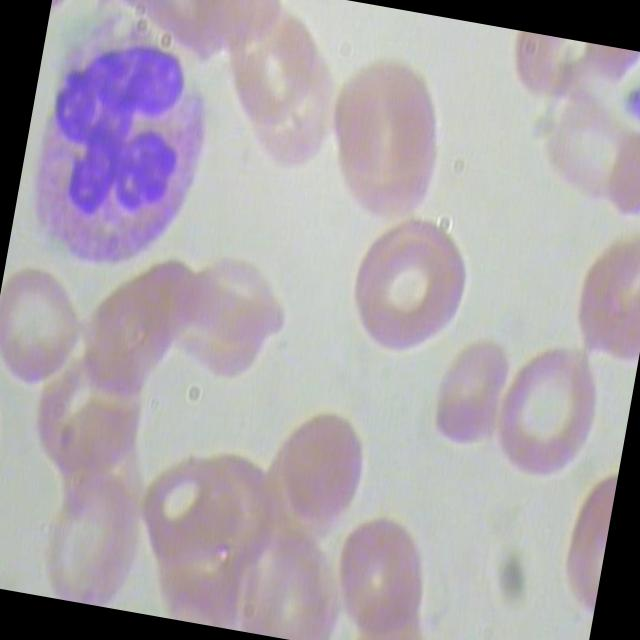Platelets: (616, 82, 640, 133)
RBC: (309, 46, 452, 205), (338, 210, 474, 372), (484, 336, 618, 496), (20, 352, 150, 493), (30, 465, 150, 611), (419, 319, 514, 478), (168, 240, 298, 354), (266, 399, 372, 534), (325, 511, 431, 640), (329, 118, 442, 228), (0, 259, 89, 393), (560, 219, 640, 362)
WBC: (7, 3, 234, 289)
